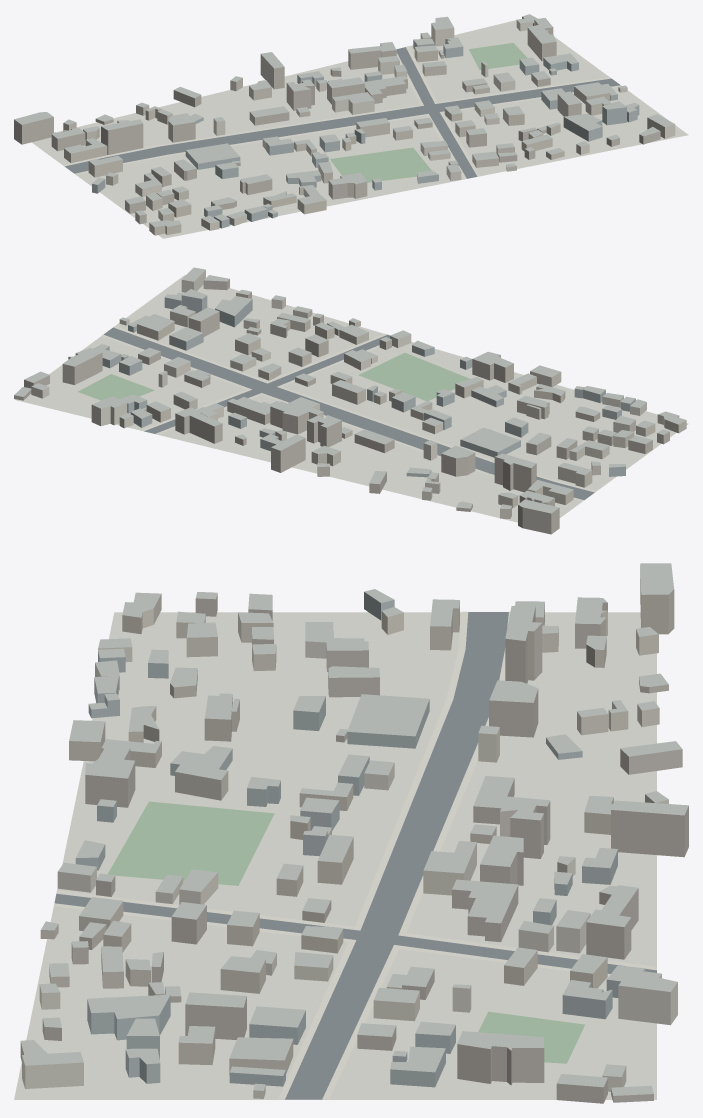
3 renders of one model, top to bottom at view 1: azimuth 30°, elevation 25°; view 2: azimuth 150°, elevation 25°; view 3: azimuth 270°, elevation 25°, orthographic. The views are drawn at different scales.
Parts seen in each view (by area): view 1: city; view 2: city; view 3: city.
Part boxes in pixels (x1,y1,x2,y2): city: (14,14,688,238); city: (14,267,688,534); city: (14,563,688,1103).
Size of the model in its own units: 514 by 23.6 by 293.
